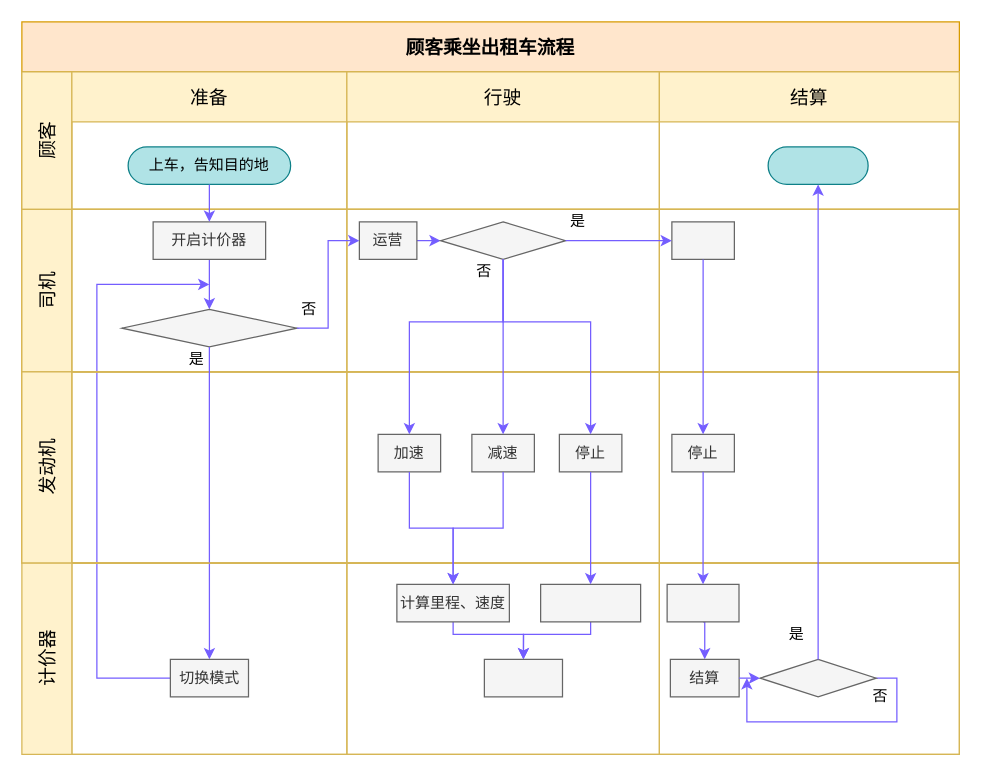
The diagram is 981 pixels wide and 776 high, and some of its shapes have lost their labels. Here are the shapes that lost their labels. From the top down, the centre of each, then its label:
point 817,165: 结账，下车
point 502,240: 是否抵达
point 702,240: 通知乘客
point 209,327: 更换计价模式
point 590,602: 计算等待时间
point 702,602: 读取数据
point 522,677: 存储数据
point 817,677: 是否已付款
